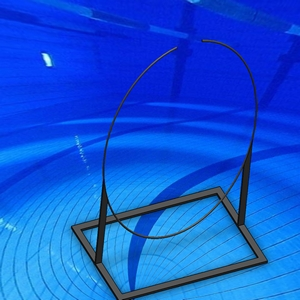circle: (71, 37, 269, 298)
